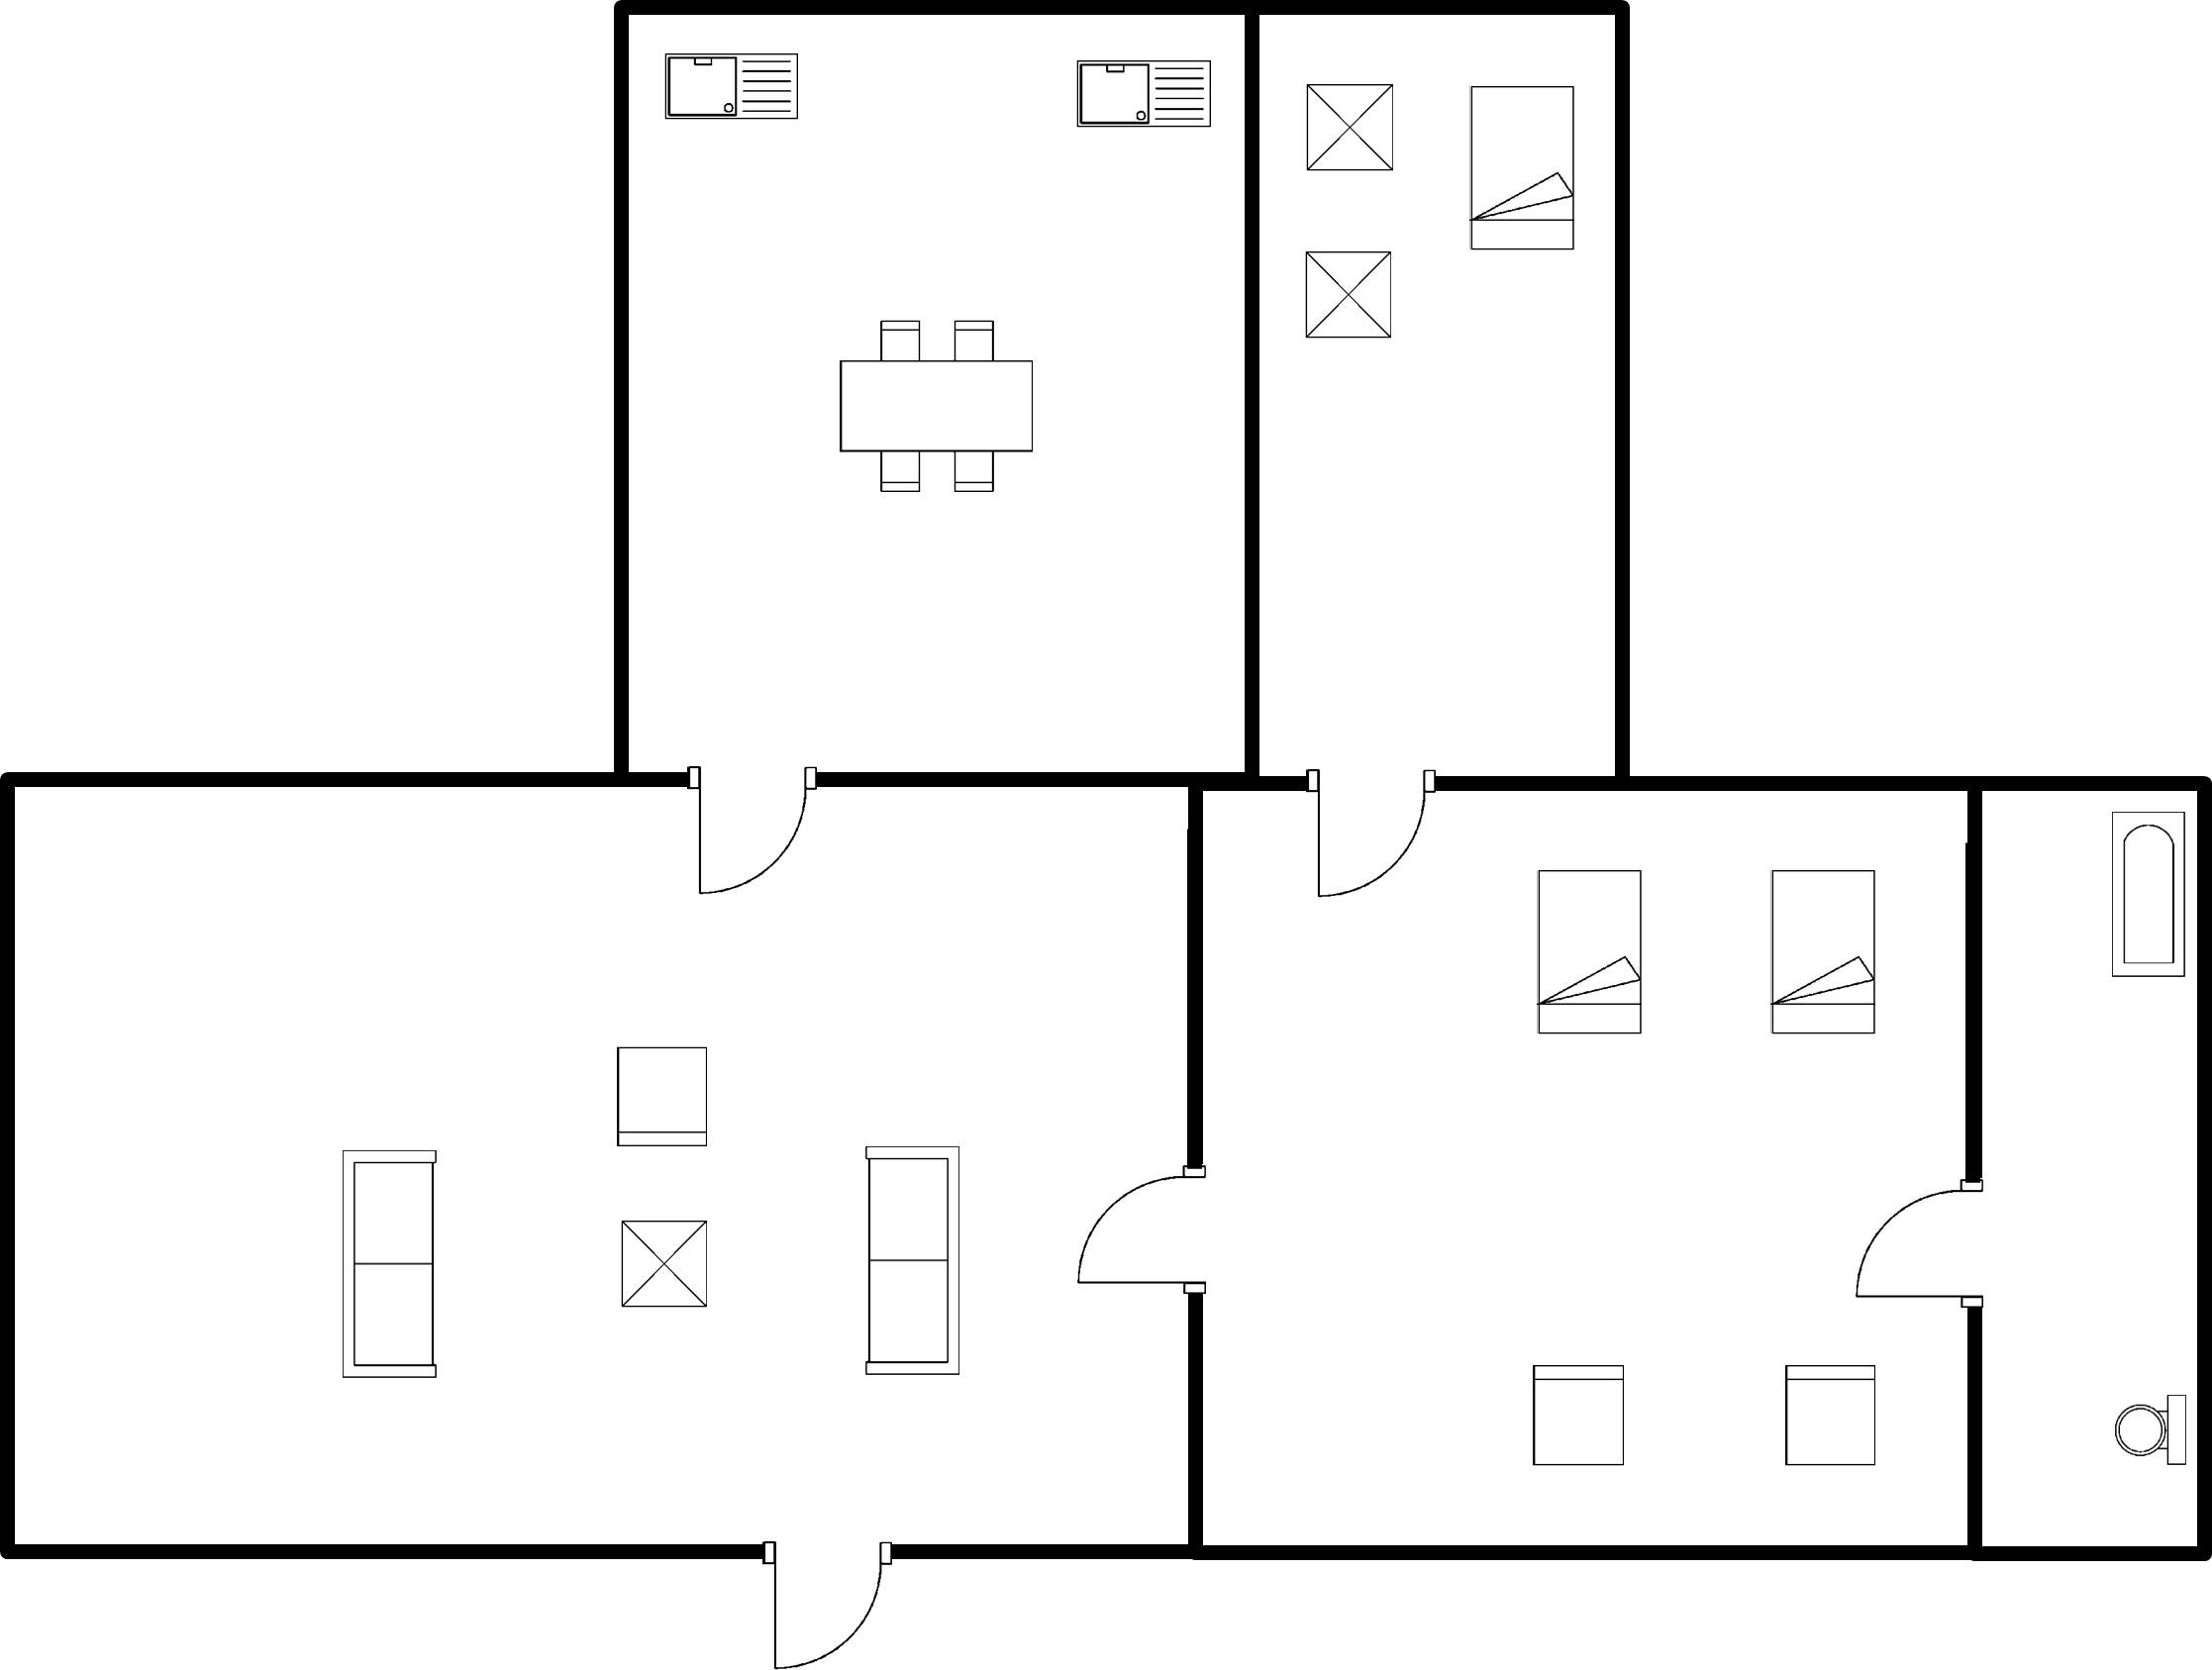bed: (1528, 854, 1655, 1043), (1760, 858, 1887, 1047), (1459, 71, 1585, 260)
coffee_table: (1289, 71, 1406, 185), (1296, 239, 1403, 349), (613, 1210, 720, 1322)
dining_table: (824, 309, 1045, 505)
large_sink: (2101, 1381, 2195, 1474)
large_sofa: (845, 1134, 971, 1388), (329, 1139, 446, 1393)
sink: (654, 43, 811, 134), (1070, 49, 1220, 140)
small_sofa: (1520, 1353, 1640, 1482), (604, 1037, 723, 1160), (1771, 1353, 1888, 1479)
tub: (2098, 799, 2195, 995)
